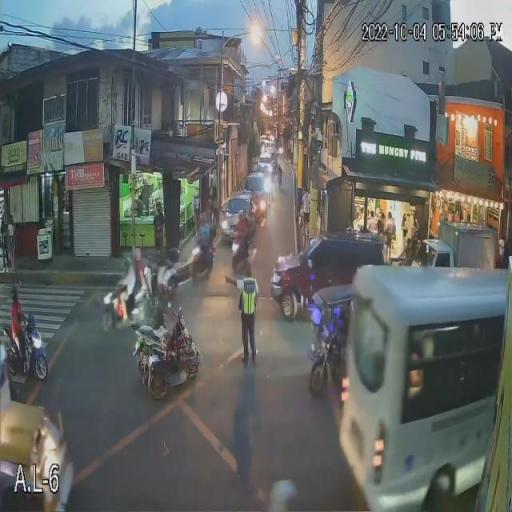helmet: (120, 252, 131, 272), (10, 286, 21, 304), (130, 248, 141, 263)
motorcycle: (0, 312, 50, 384), (102, 280, 160, 334), (151, 261, 191, 302), (184, 242, 215, 284), (230, 233, 255, 278), (254, 200, 268, 230)
rider: (122, 248, 153, 309), (10, 288, 31, 354), (156, 248, 183, 289), (193, 221, 215, 260), (235, 213, 256, 252), (256, 190, 268, 214)
